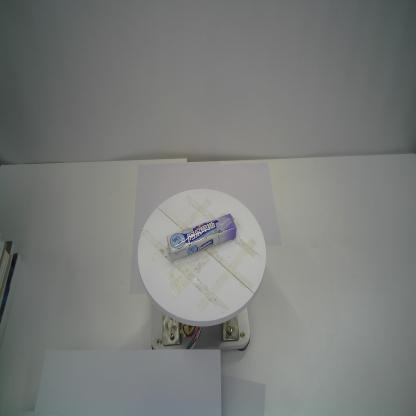Candy: (166, 214, 236, 261)
